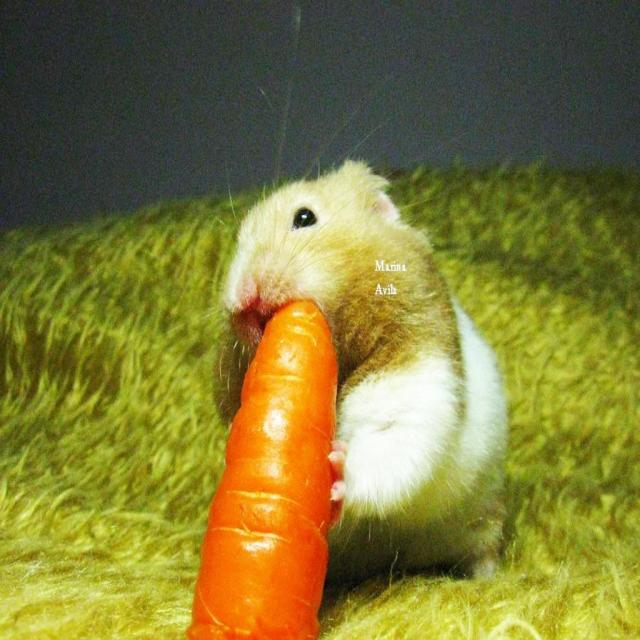rat: (208, 158, 510, 576)
